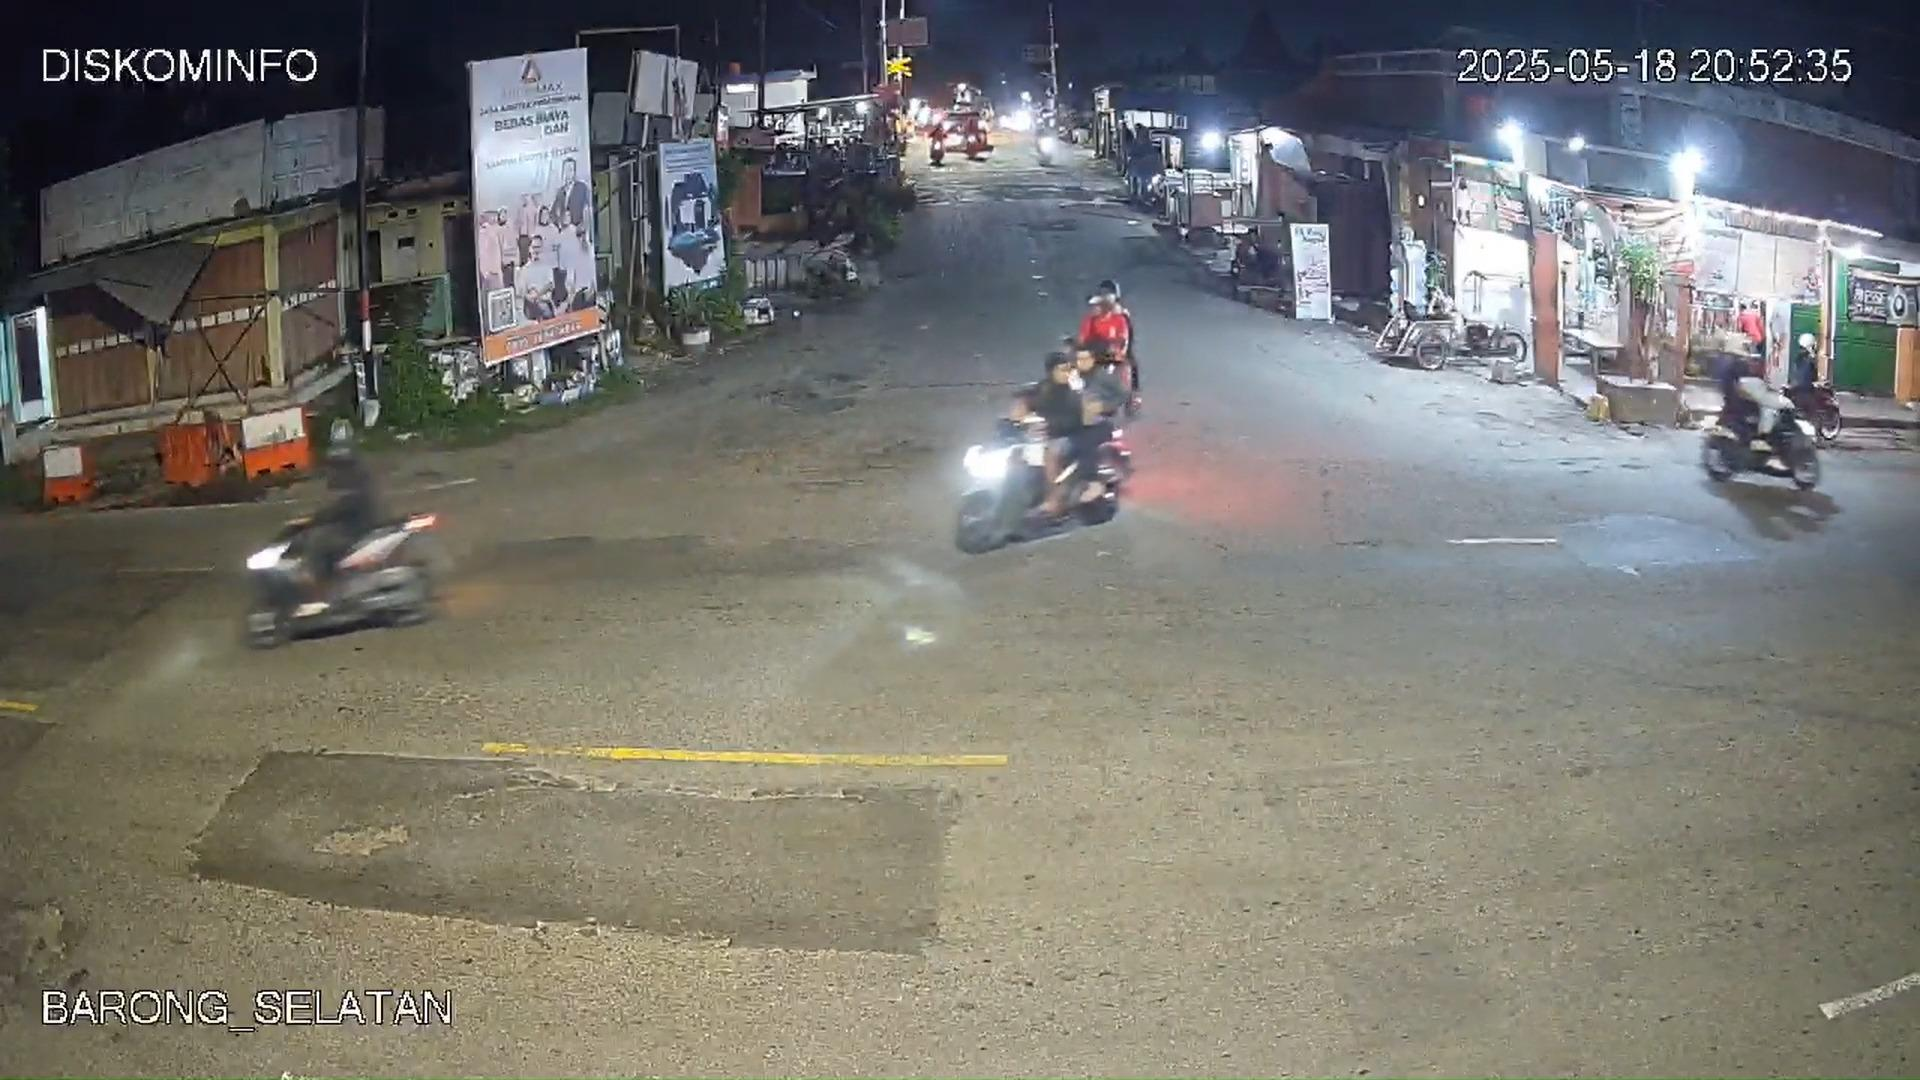Motor: (244, 430, 438, 642), (1702, 360, 1825, 489), (1079, 278, 1139, 405)
